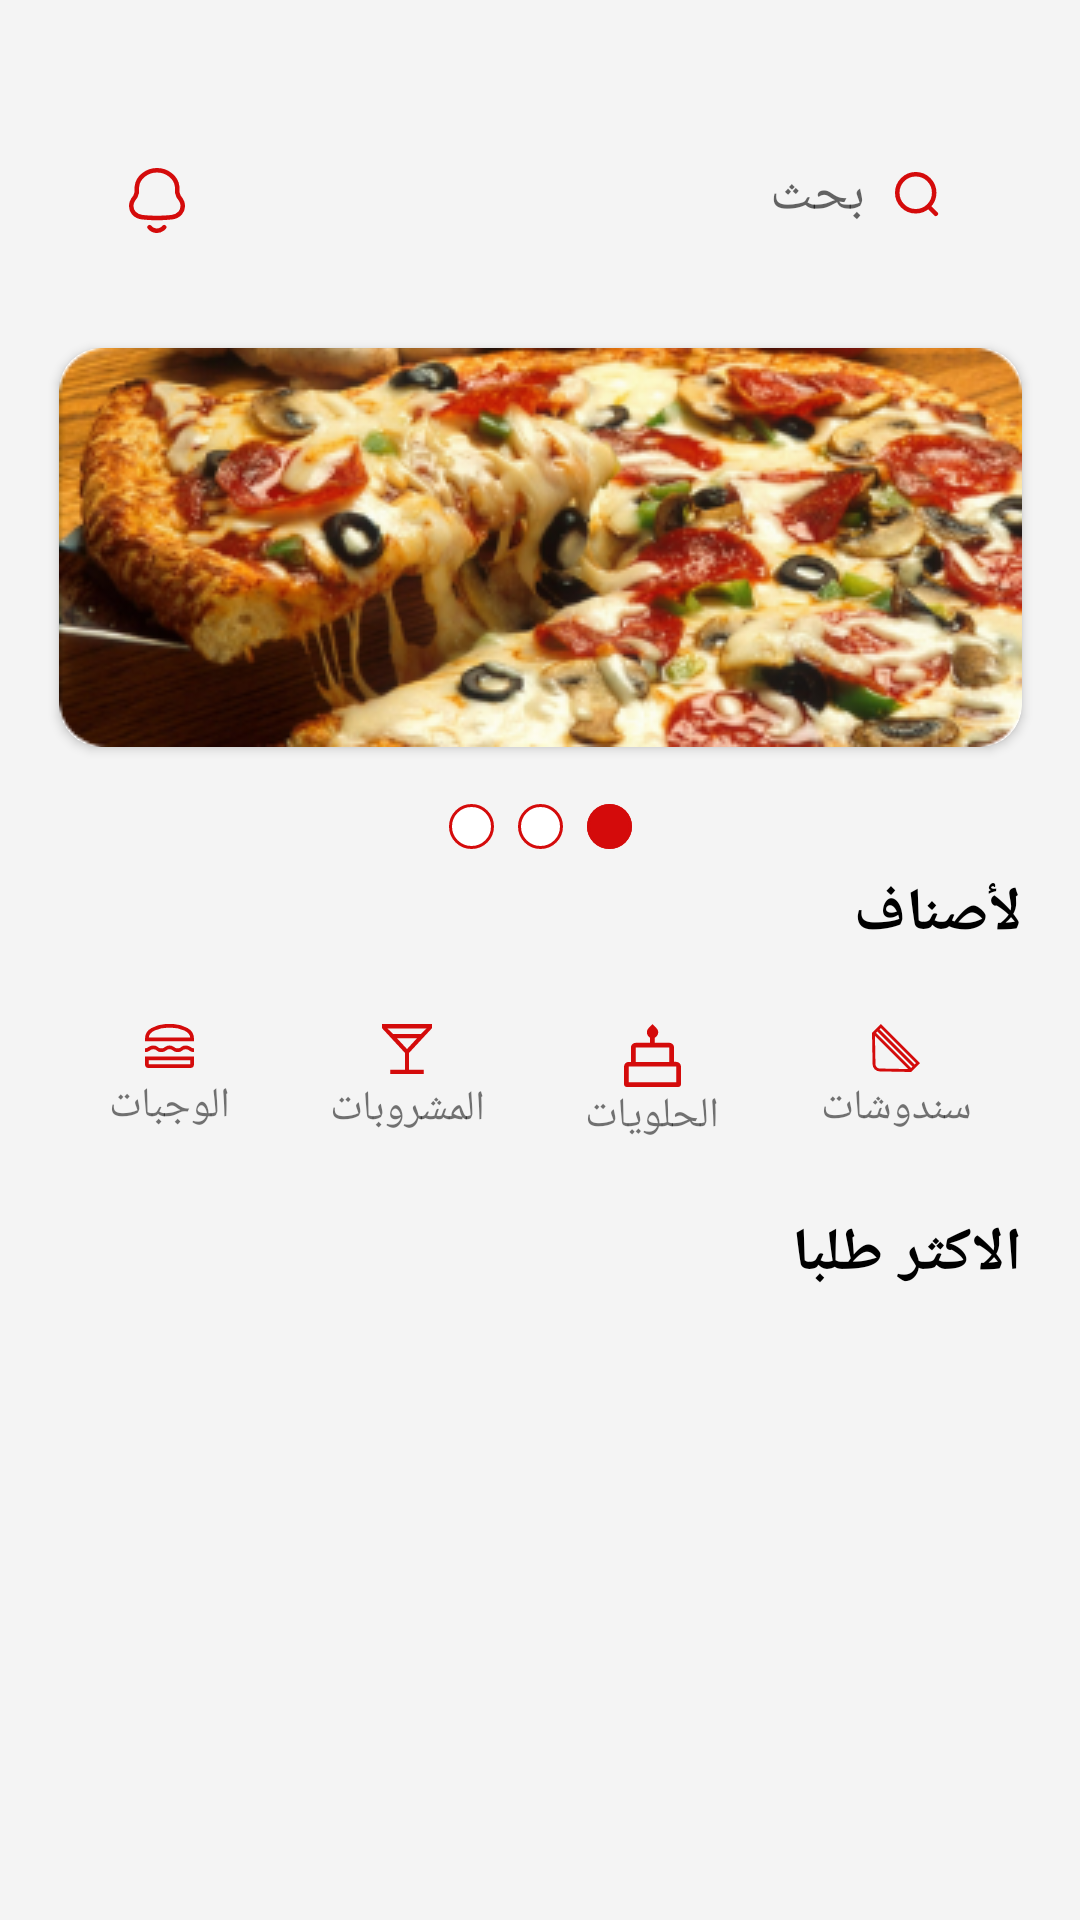

Named icons in this screenshot (1080w x 1920h) and their bounding boxes, bbox(x1, y1, x2, y2):
notification: bbox(129, 168, 185, 233)
